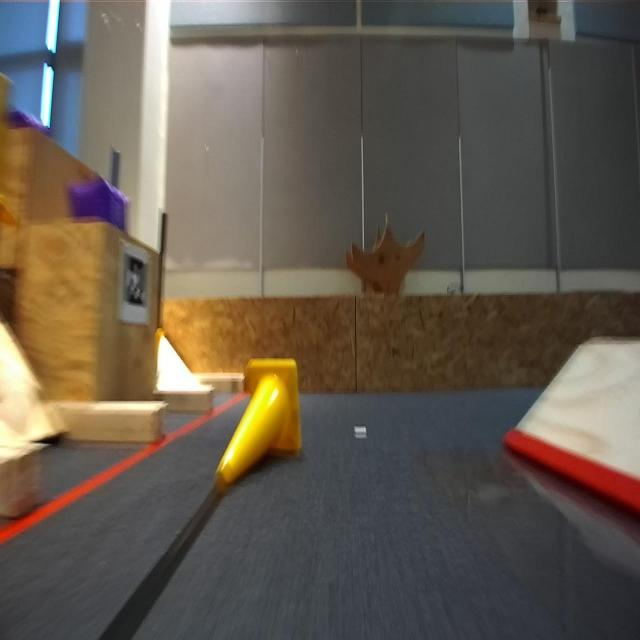frc_cone: (212, 358, 300, 494)
frc_cube: (64, 175, 130, 229)
